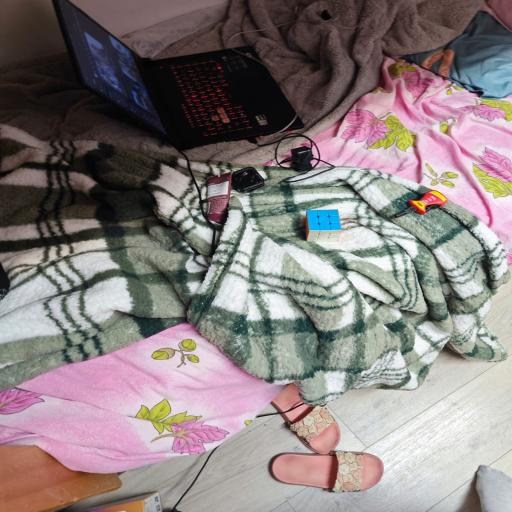Crema Maini: (203, 173, 233, 224)
Rubiks Cube: (300, 207, 347, 246)
Super Glue: (388, 188, 450, 220)
